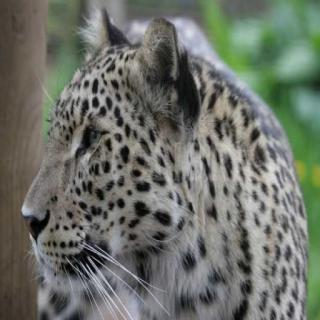Leopard: (10, 5, 319, 320)
